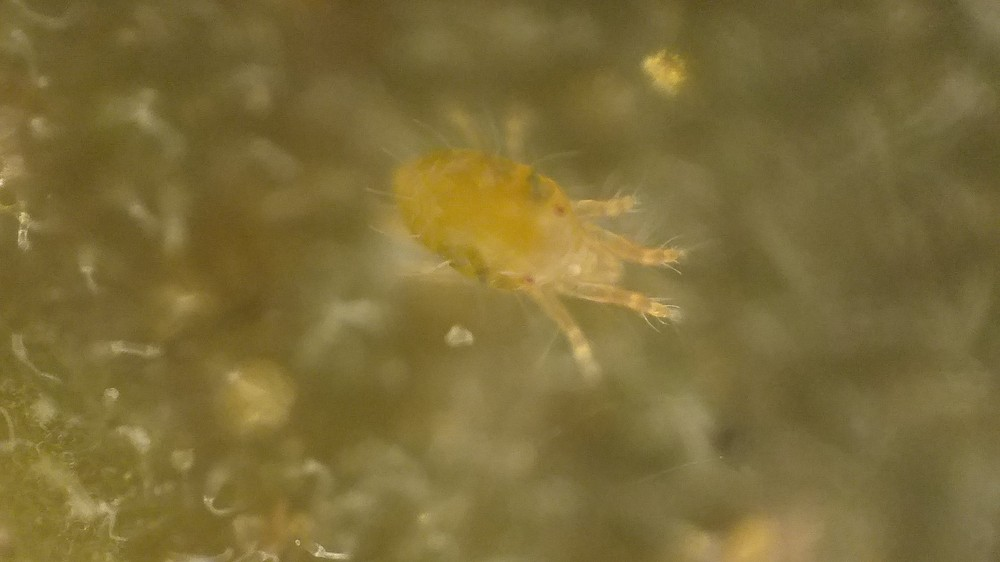Aracnido Rojo: (370, 107, 724, 401)
